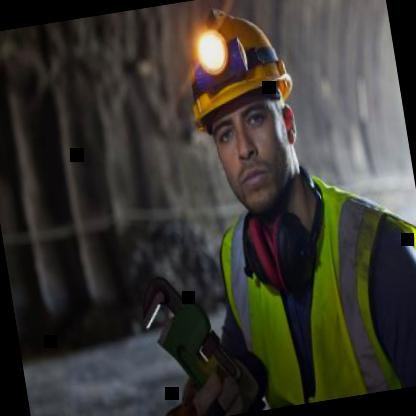helmet: (164, 0, 319, 231)
